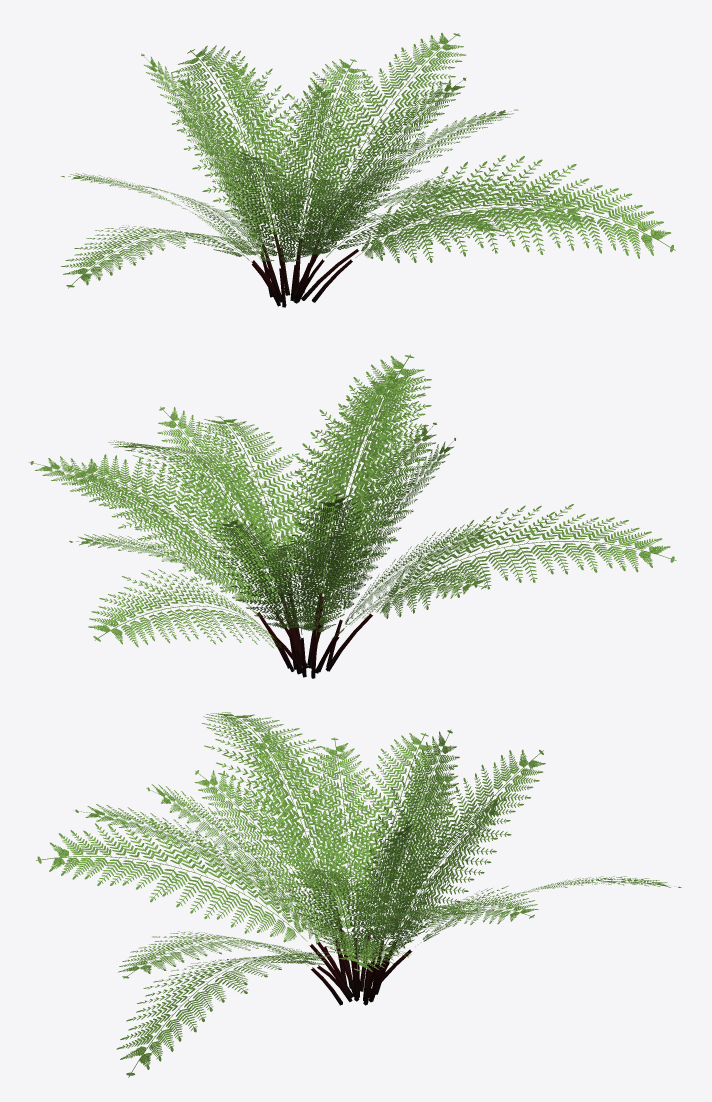
The model's file is lady_fern_v01.glb.
3 renders of one model, top to bottom at view 1: azimuth 30°, elevation 25°; view 2: azimuth 150°, elevation 25°; view 3: azimuth 270°, elevation 25°, orthographic. The views are drawn at different scales.
Parts seen in each view (by area): view 1: lady_fern_v01; view 2: lady_fern_v01; view 3: lady_fern_v01.
Part boxes in pixels (x1=…): lady_fern_v01: x1=61, y1=33, x2=675, y2=307; lady_fern_v01: x1=29, y1=354, x2=676, y2=678; lady_fern_v01: x1=36, y1=712, x2=681, y2=1077.
Size of the model in its own units: 1.12 by 0.3719 by 0.9808.
Materials: 2 (2 with a texture image).
